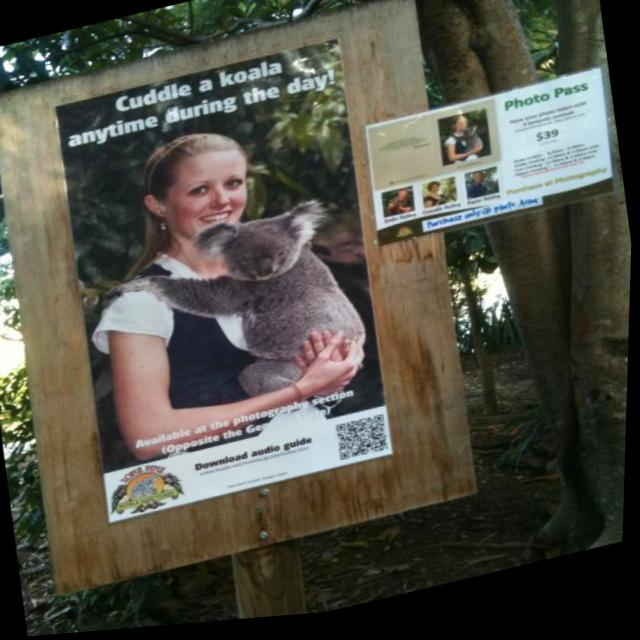qrcode: (339, 422, 393, 467)
